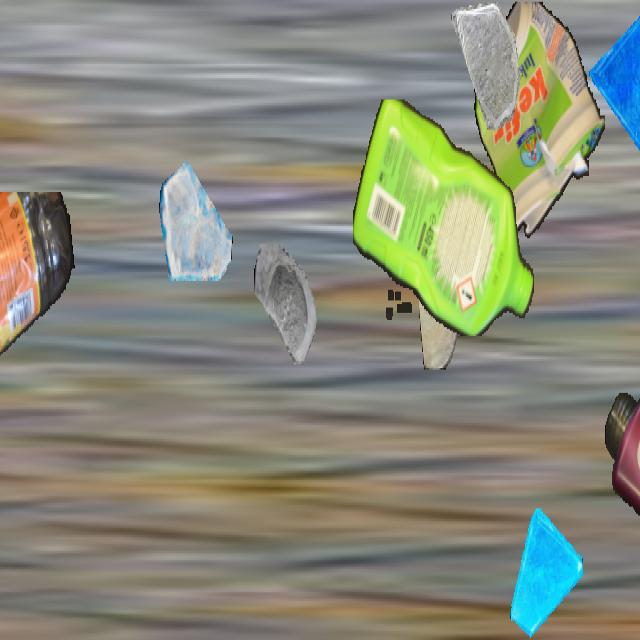glass: (253, 244, 329, 378), (159, 156, 233, 288), (508, 507, 582, 638), (451, 2, 523, 130), (589, 2, 640, 162)
plastic: (353, 100, 535, 334), (473, 2, 605, 247), (0, 192, 77, 441), (604, 393, 640, 638)
wood: (419, 238, 457, 370)
